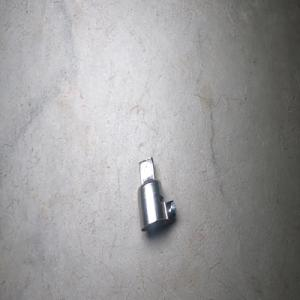MetalPart: (136, 156, 176, 231)
